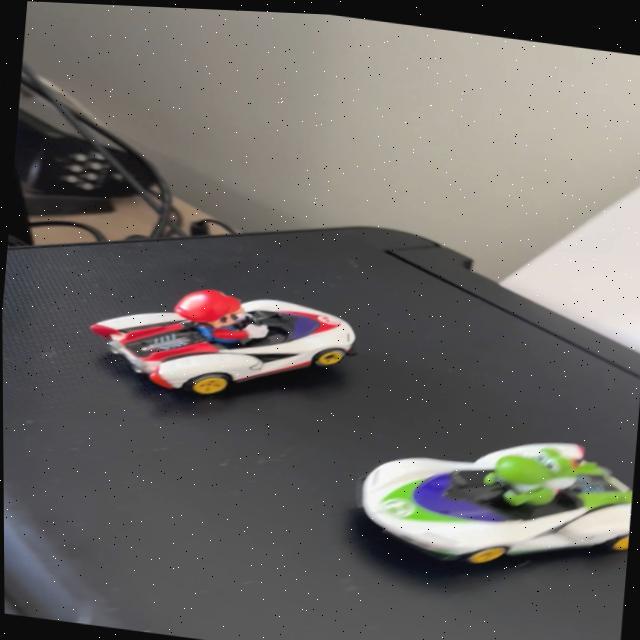mario: (62, 259, 382, 420)
yoshi: (335, 401, 636, 585)
